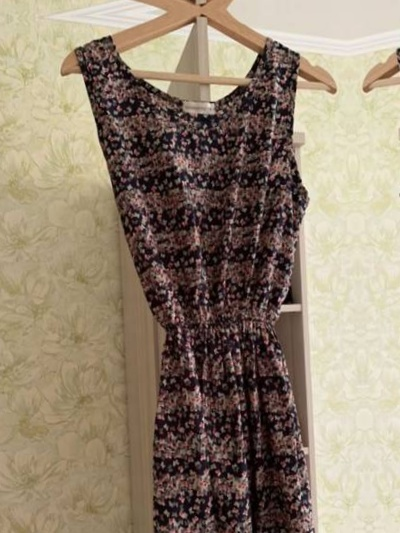Dress: (50, 20, 337, 533), (381, 5, 400, 533), (24, 0, 312, 2)
